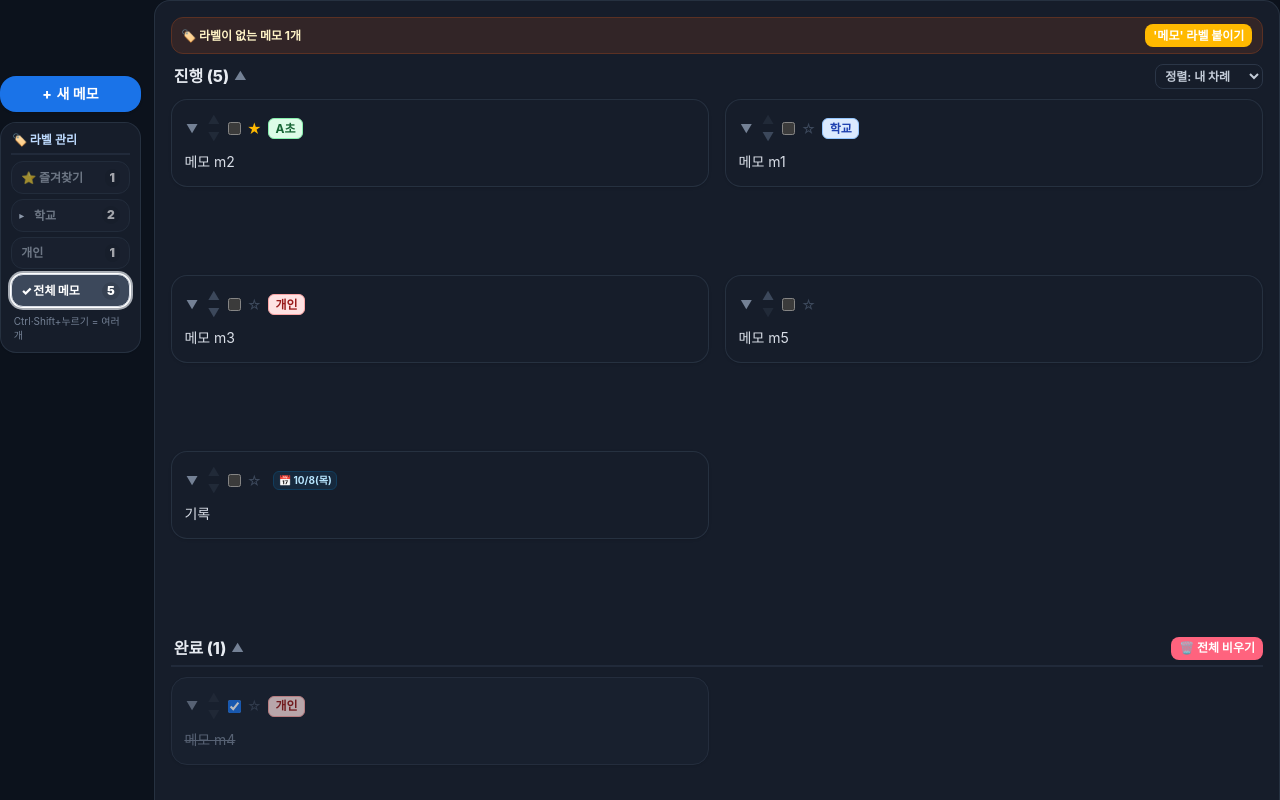
메모 화면 › 진행·완료 구역, 완료 전체 비우기 = 한 묶음 지운 표시 + 되돌리기
Expected: the button "📅 10/8(목)" is shown, [273, 471, 337, 490]
Click the button "🗑️ 전체 비우기": click(1217, 648) [1171, 637, 1263, 660]
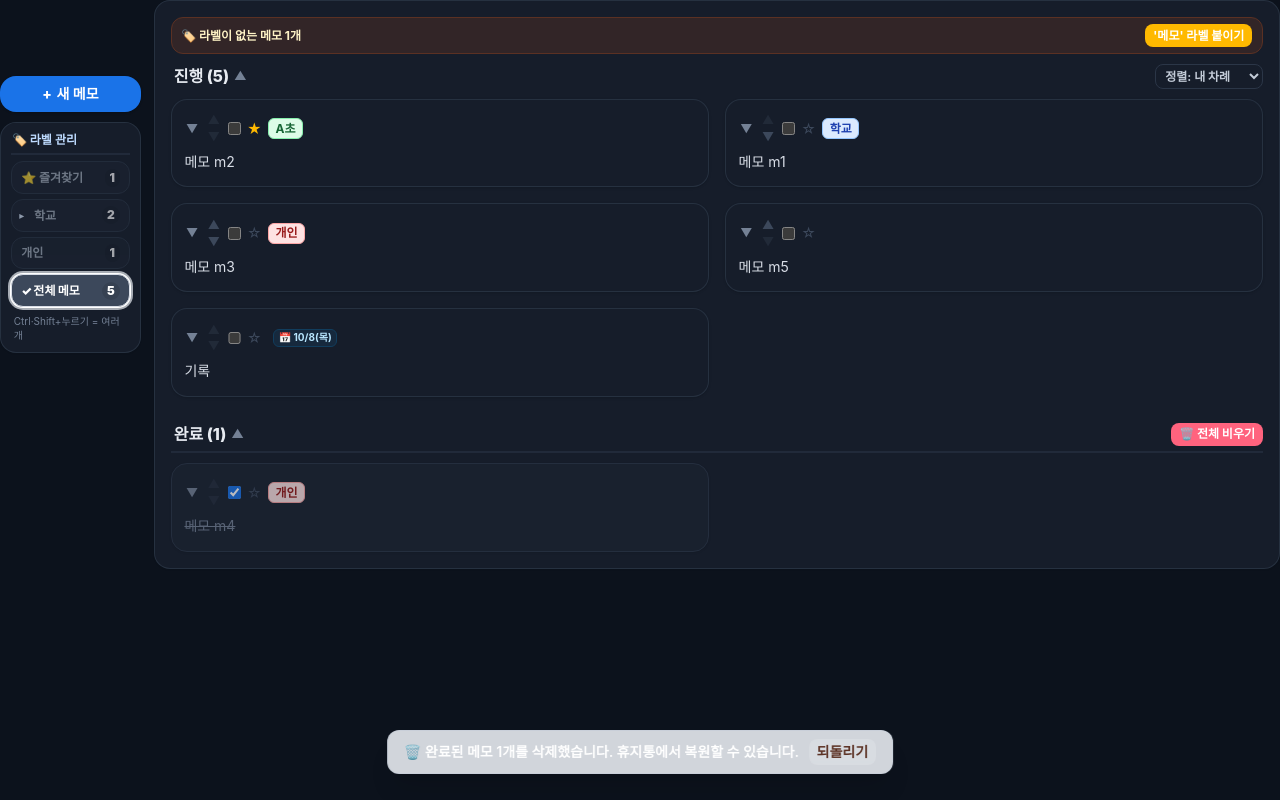
Now the button "되돌리기" is shown, box [809, 739, 876, 765]
